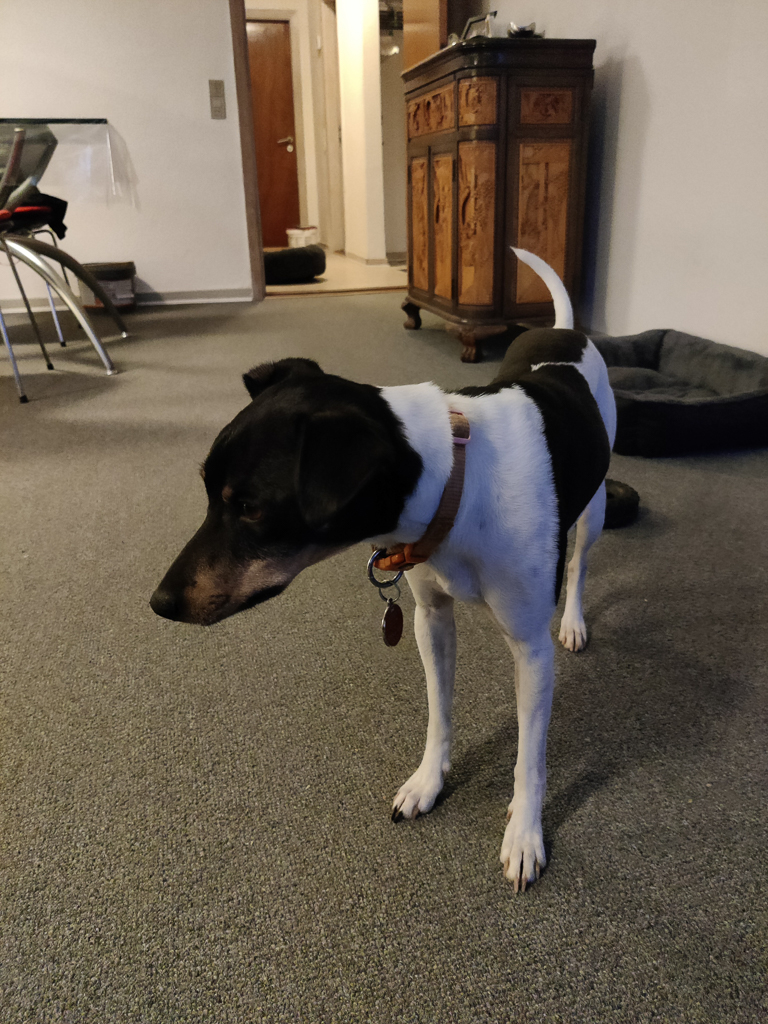Dog: (126, 228, 669, 910)
